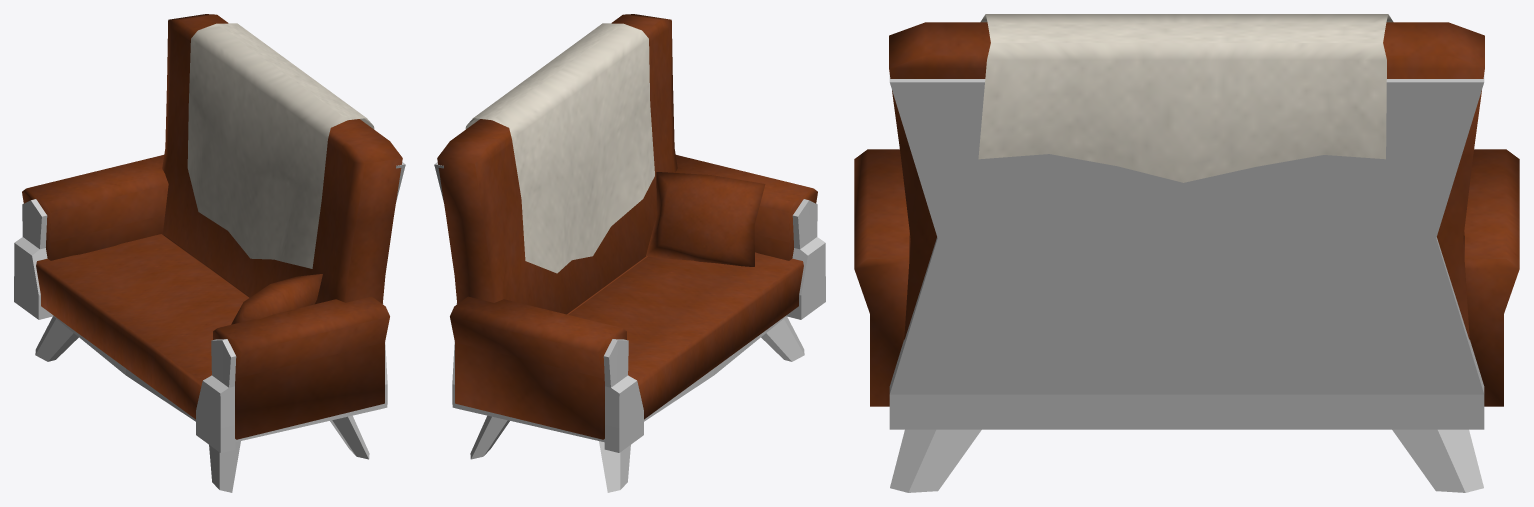
File: Couch.fbx
The picture shows the model from 3 angles, left to right: view 1: azimuth 30°, elevation 25°; view 2: azimuth 150°, elevation 25°; view 3: azimuth 270°, elevation 25°; orthographic projection. The views are drawn at different scales.
Parts seen in each view (by area): view 1: Cylinder.019; view 2: Cylinder.019; view 3: Cylinder.019.
Part boxes in pixels (left/top/right/bottom): Cylinder.019: left=14, top=14, right=405, bottom=492; Cylinder.019: left=434, top=14, right=825, bottom=492; Cylinder.019: left=854, top=14, right=1519, bottom=492.
Bounding box in the file's own units: 1.11 × 2.13 × 1.68.
